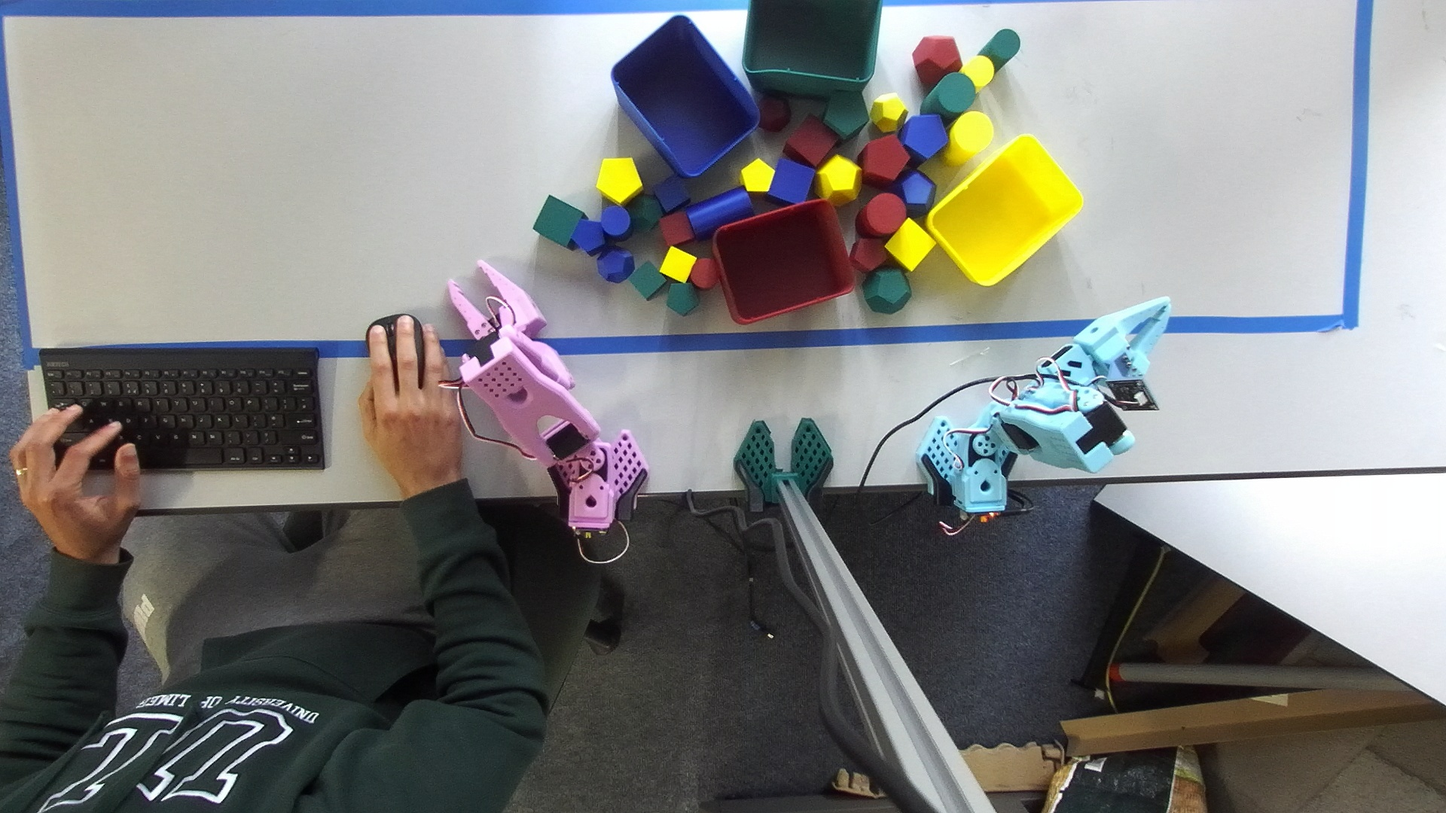bin: (612, 15, 758, 177), (926, 135, 1082, 285), (712, 199, 854, 323), (743, 0, 881, 99)
cube: (782, 115, 837, 169), (533, 195, 585, 245), (885, 218, 935, 270), (769, 157, 814, 203), (627, 261, 670, 300), (654, 174, 689, 212), (660, 246, 696, 282), (659, 210, 694, 245)
cylinder: (684, 187, 753, 239), (920, 72, 975, 122), (944, 111, 993, 166), (856, 193, 905, 237), (979, 29, 1020, 71), (960, 54, 995, 90), (600, 205, 631, 237), (688, 258, 718, 289)
dodecahedron: (912, 35, 962, 90), (816, 155, 862, 206), (862, 267, 911, 314), (886, 170, 935, 215), (869, 93, 907, 132), (597, 248, 635, 283), (758, 95, 791, 132), (630, 194, 663, 230)
gripper: (1073, 296, 1170, 378), (447, 260, 546, 340)
hexagonal: (858, 134, 908, 187), (899, 114, 947, 163), (822, 90, 868, 139), (596, 157, 642, 205), (850, 237, 889, 272), (570, 218, 606, 254), (740, 159, 774, 192), (666, 281, 699, 314)
